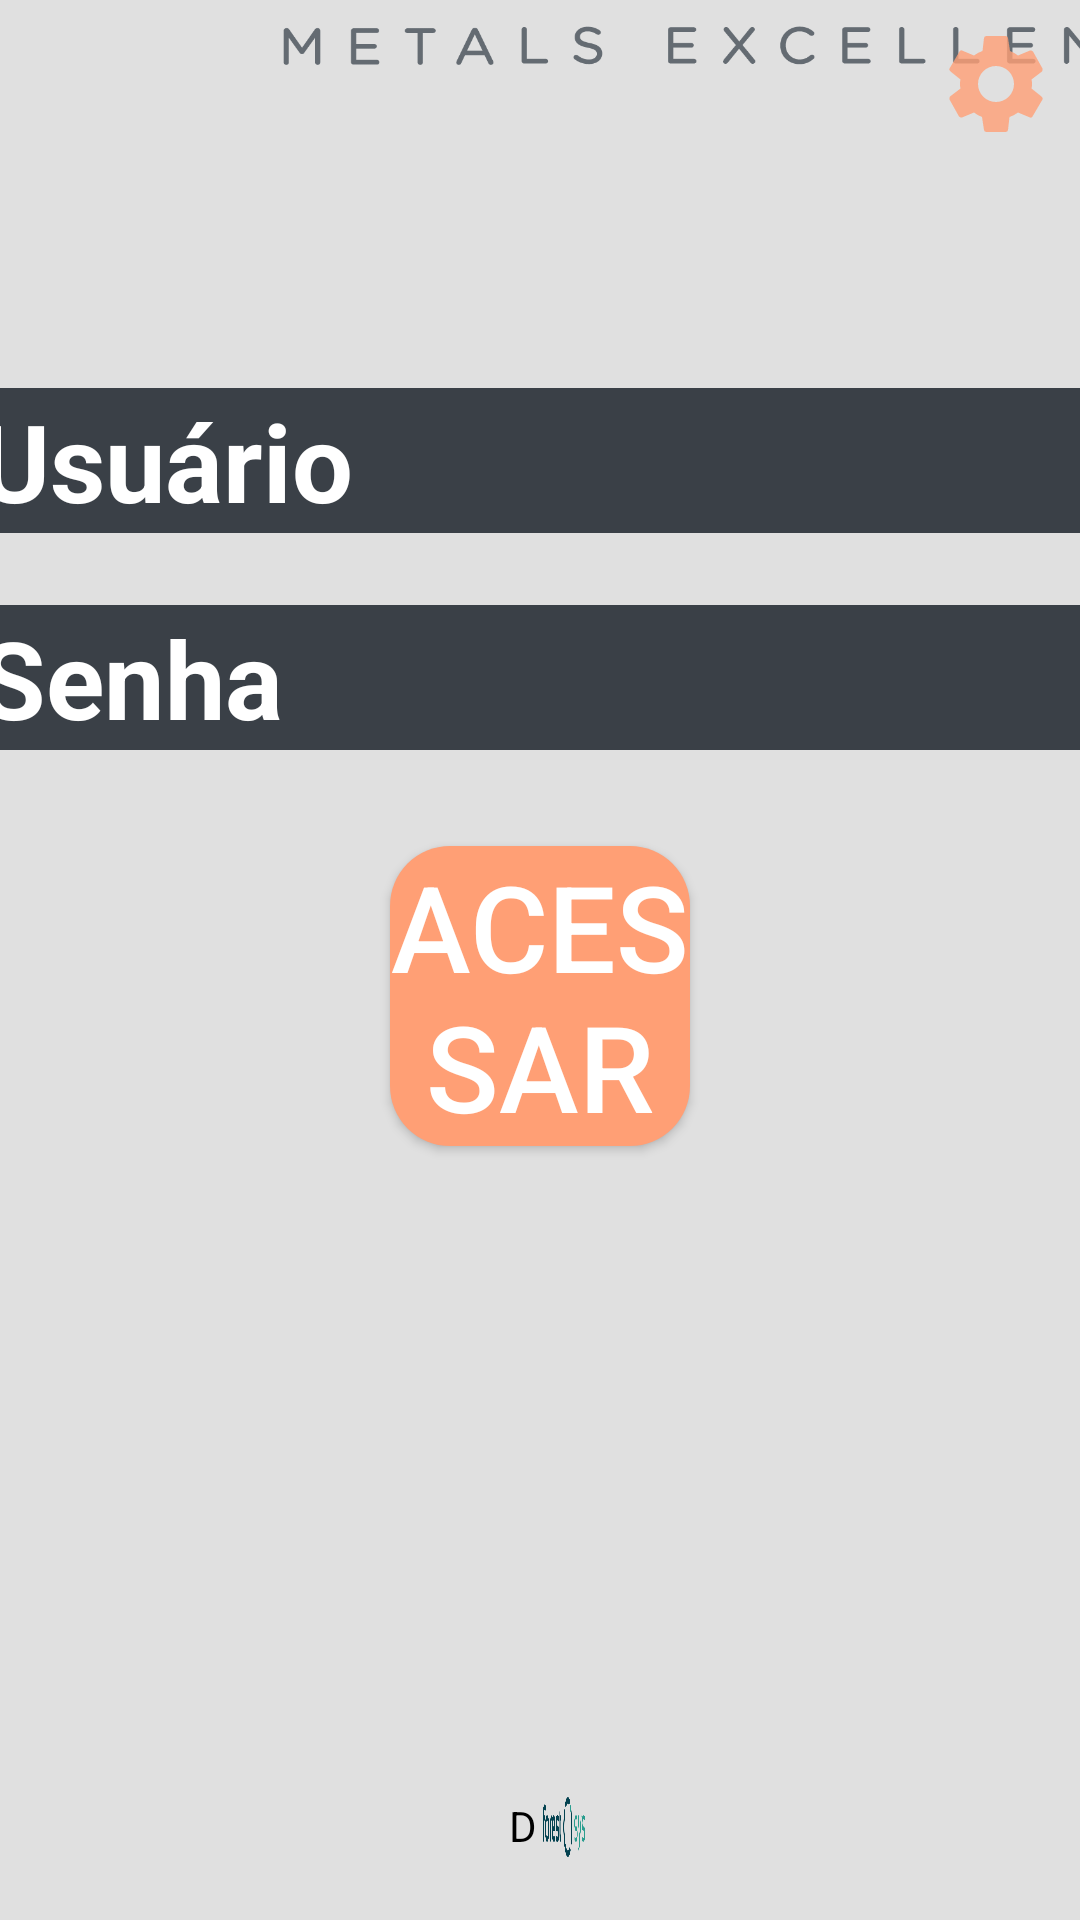

Icons on this 1080w x 1920h Android screen, each with the point to tap as point (x, y):
config: point (996, 79)
